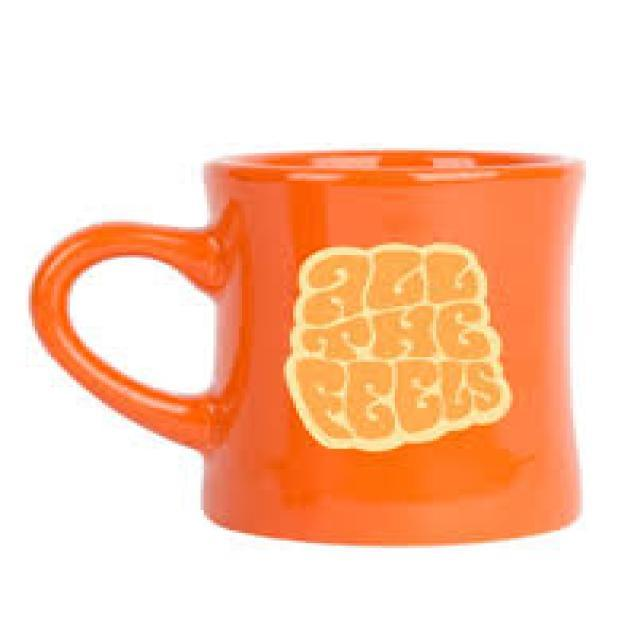taza: (28, 148, 588, 548)
